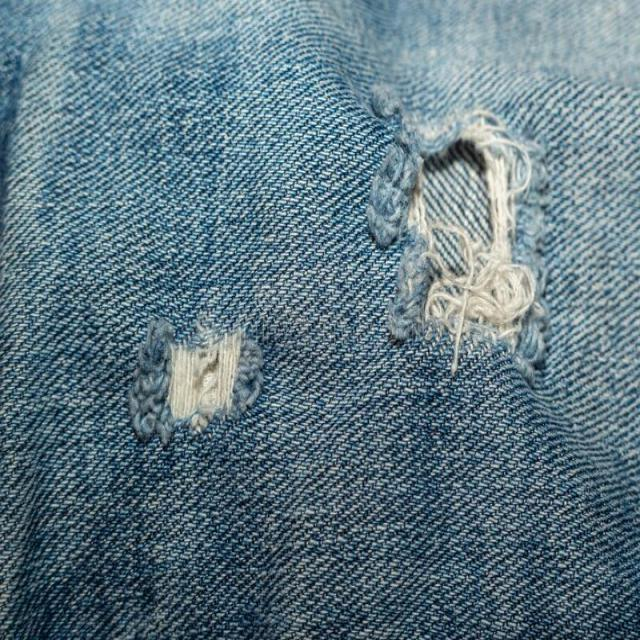Hole: (367, 83, 547, 378), (128, 319, 262, 446)
